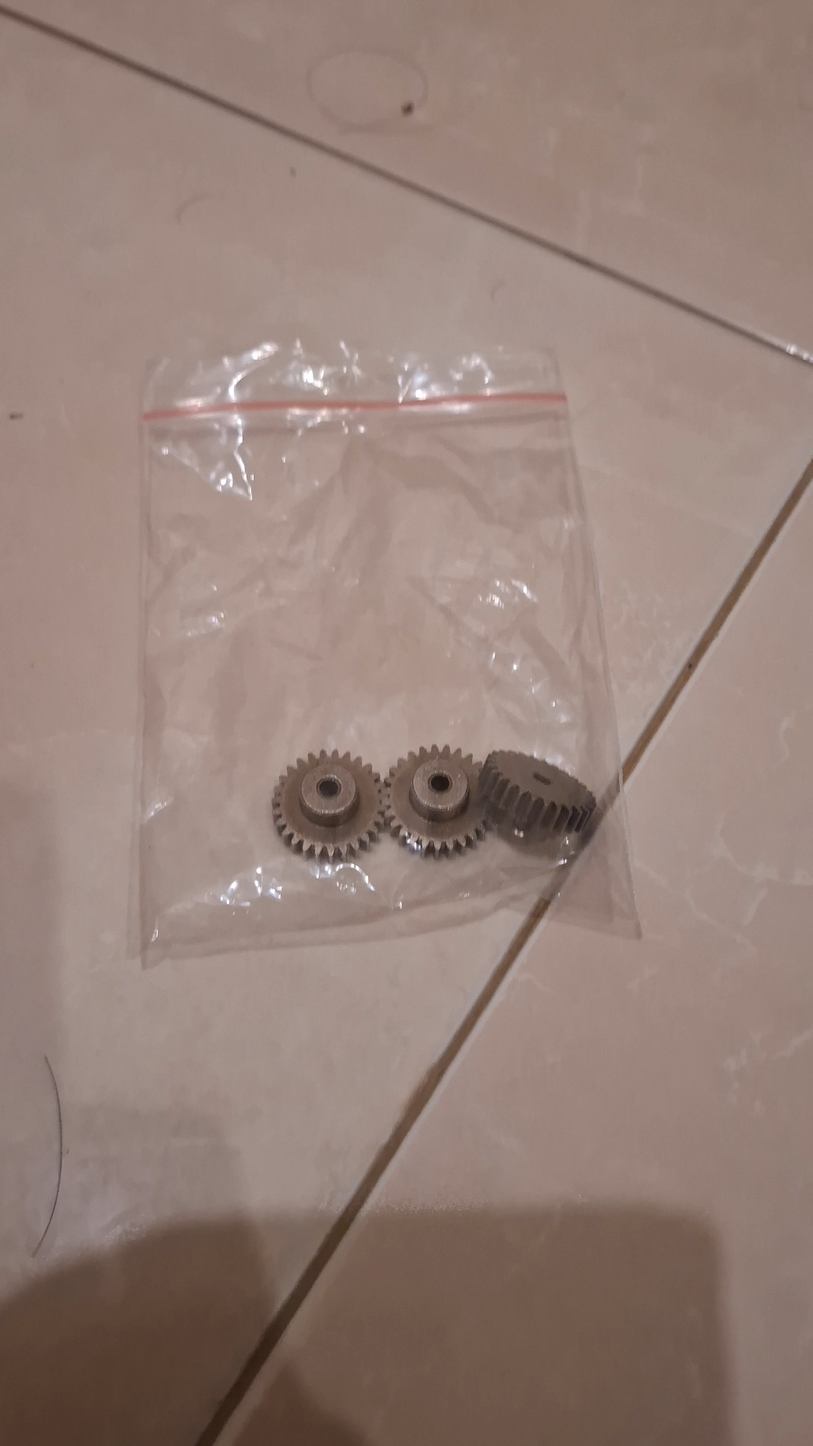spur gear: (268, 747, 389, 863), (472, 747, 600, 847), (381, 745, 493, 857)
